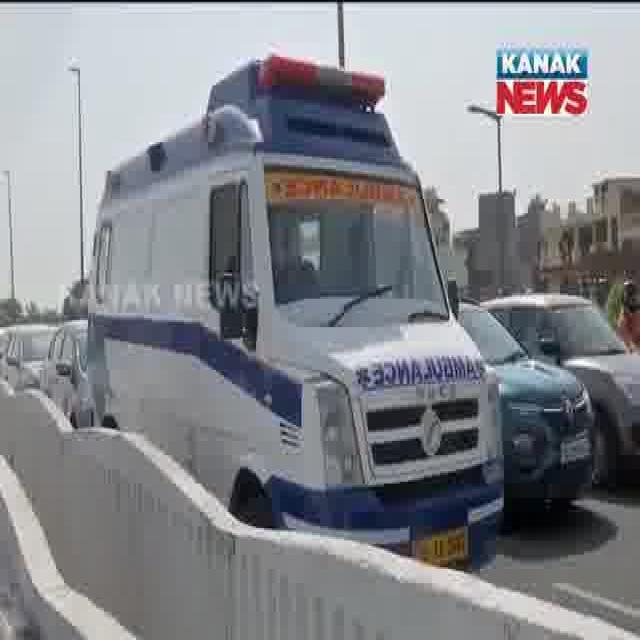ambulance: (75, 41, 502, 564)
